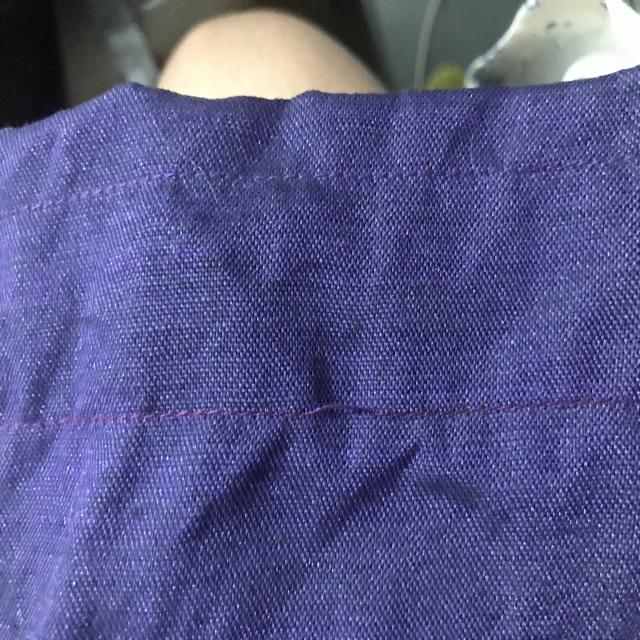good: (154, 399, 261, 429)
skip: (289, 384, 388, 444)
